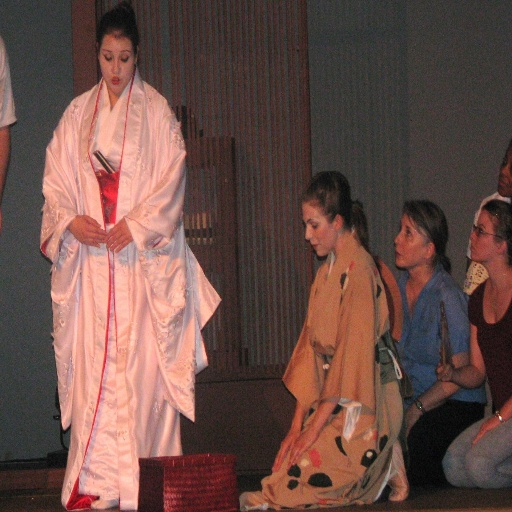hand: (288, 424, 319, 470), (271, 428, 301, 473), (69, 213, 104, 246), (103, 217, 134, 253), (470, 414, 501, 449), (405, 403, 421, 438), (436, 359, 455, 385)
